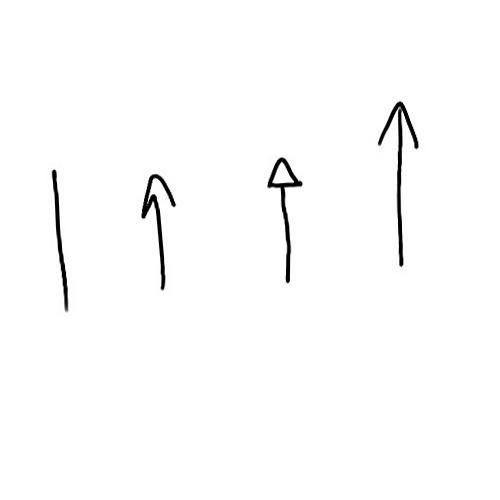arrow: (378, 99, 423, 269), (265, 153, 303, 285), (140, 174, 175, 294), (45, 169, 74, 311)
